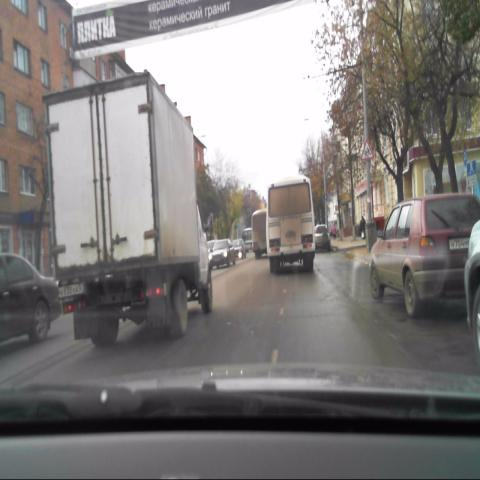1_23: (360, 139, 374, 161)
